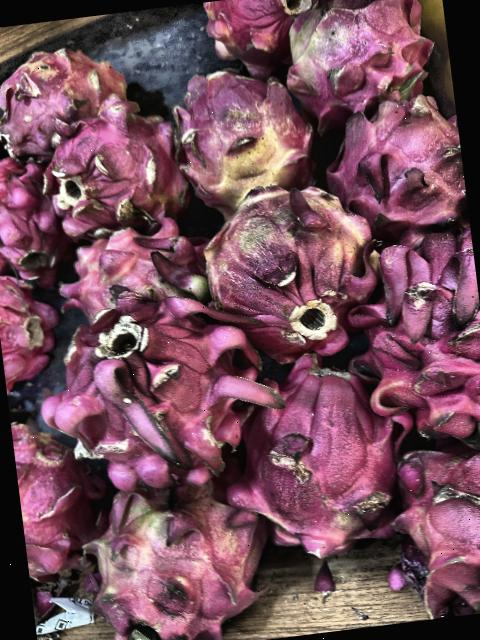buah-naga-belum-matang: (186, 182, 387, 364), (77, 474, 277, 640), (166, 64, 324, 206)
buah-naga-matang: (31, 285, 289, 507), (344, 221, 480, 469), (244, 357, 403, 569), (322, 98, 469, 238), (284, 0, 440, 119), (34, 104, 188, 224), (384, 428, 480, 619), (11, 406, 114, 582), (0, 36, 149, 157), (50, 220, 204, 319), (0, 156, 70, 280), (201, 0, 323, 67), (0, 262, 68, 380)
